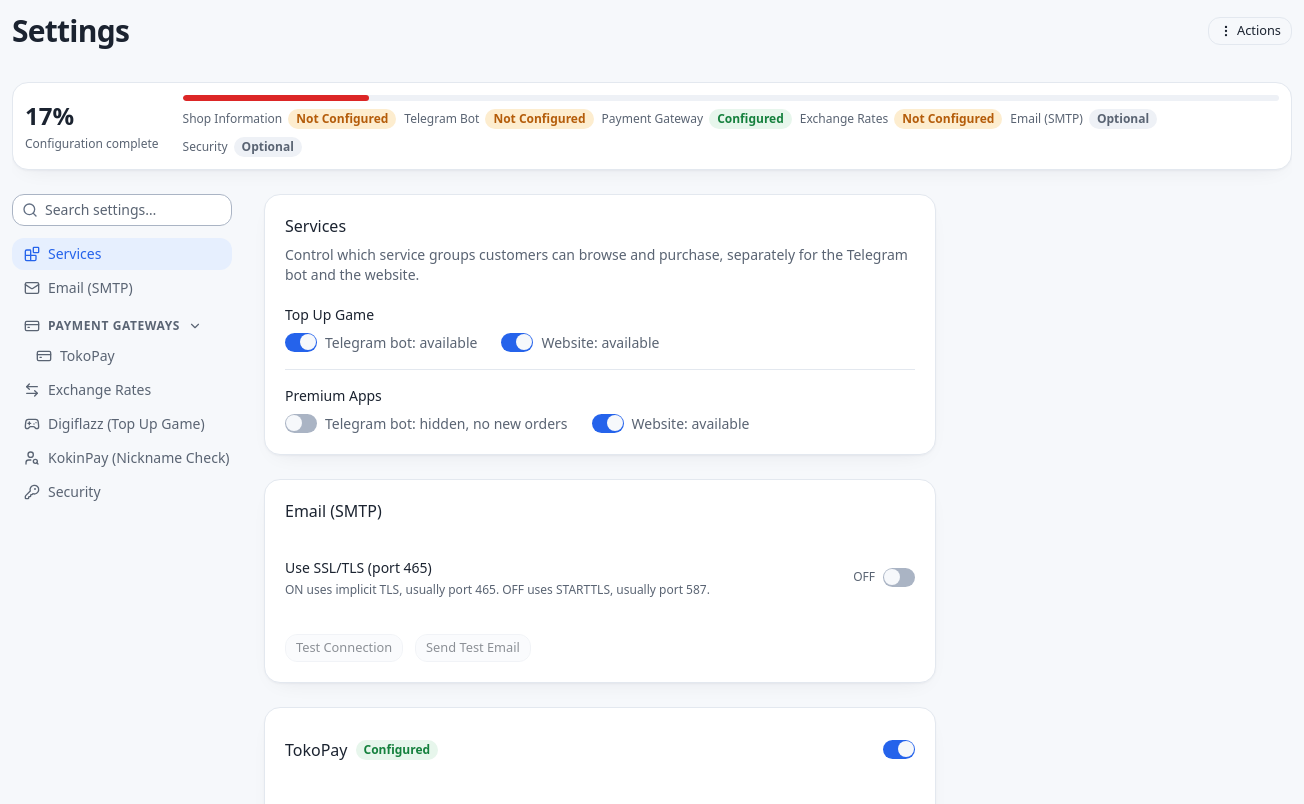
SettingsPage › saves a boolean as an ON/OFF switch and retains the previous state on failure
The image size is (1304, 804).
Click the switch named "Use SSL/TLS (port 465)": (899, 578) [883,568,915,587]
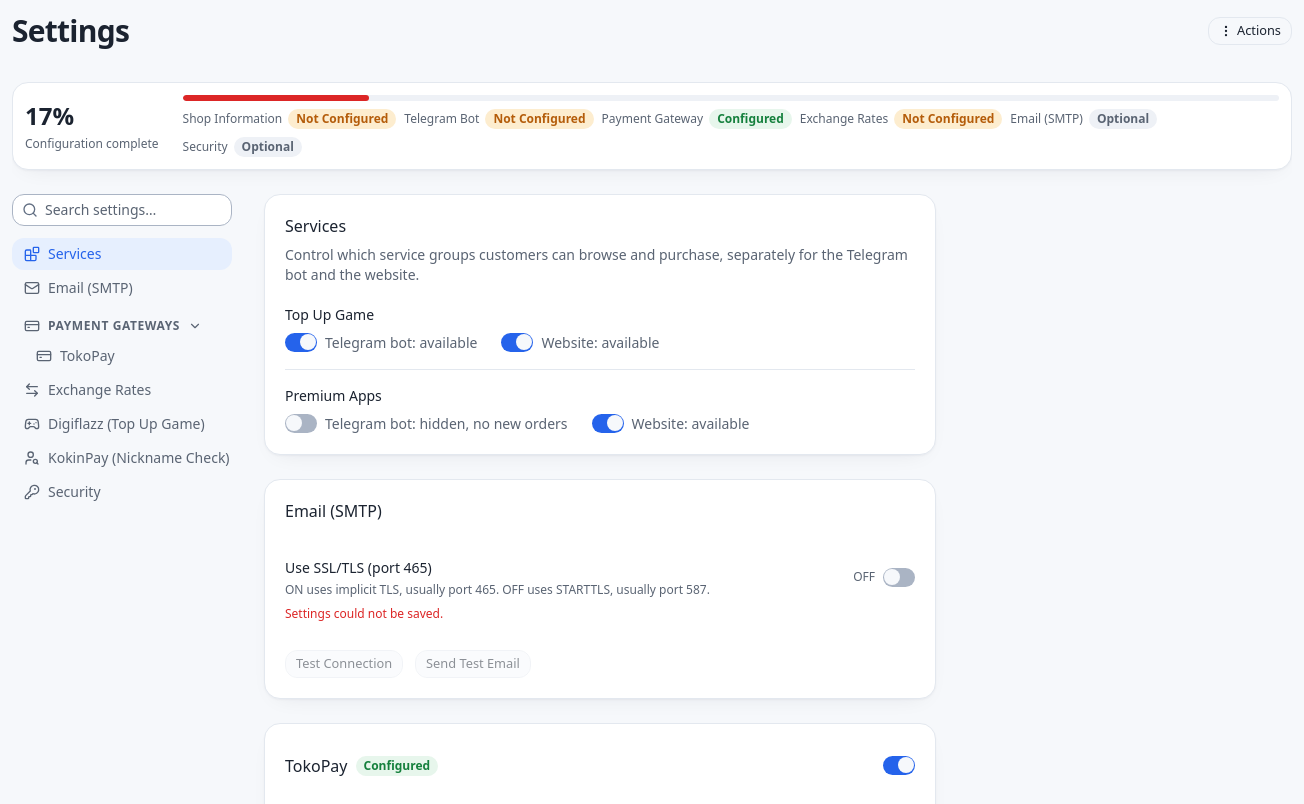
Expected: the message reads "Settings could not be saved.", [285,604,443,622]
